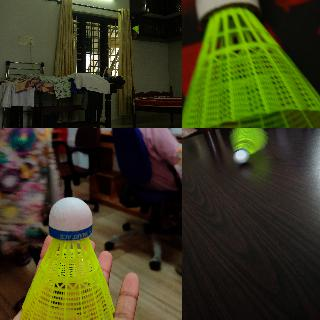shuttlecock: (182, 0, 319, 127), (18, 196, 114, 319), (229, 128, 268, 165), (132, 25, 138, 33)
